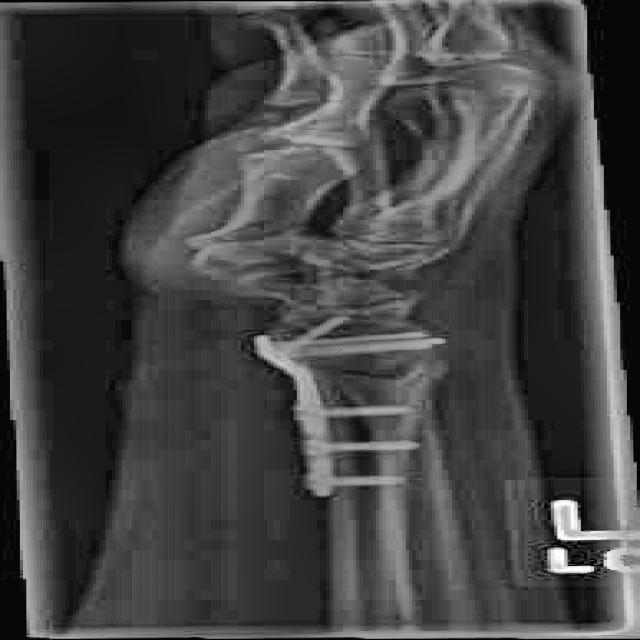wrist positive: (283, 331, 488, 392)
